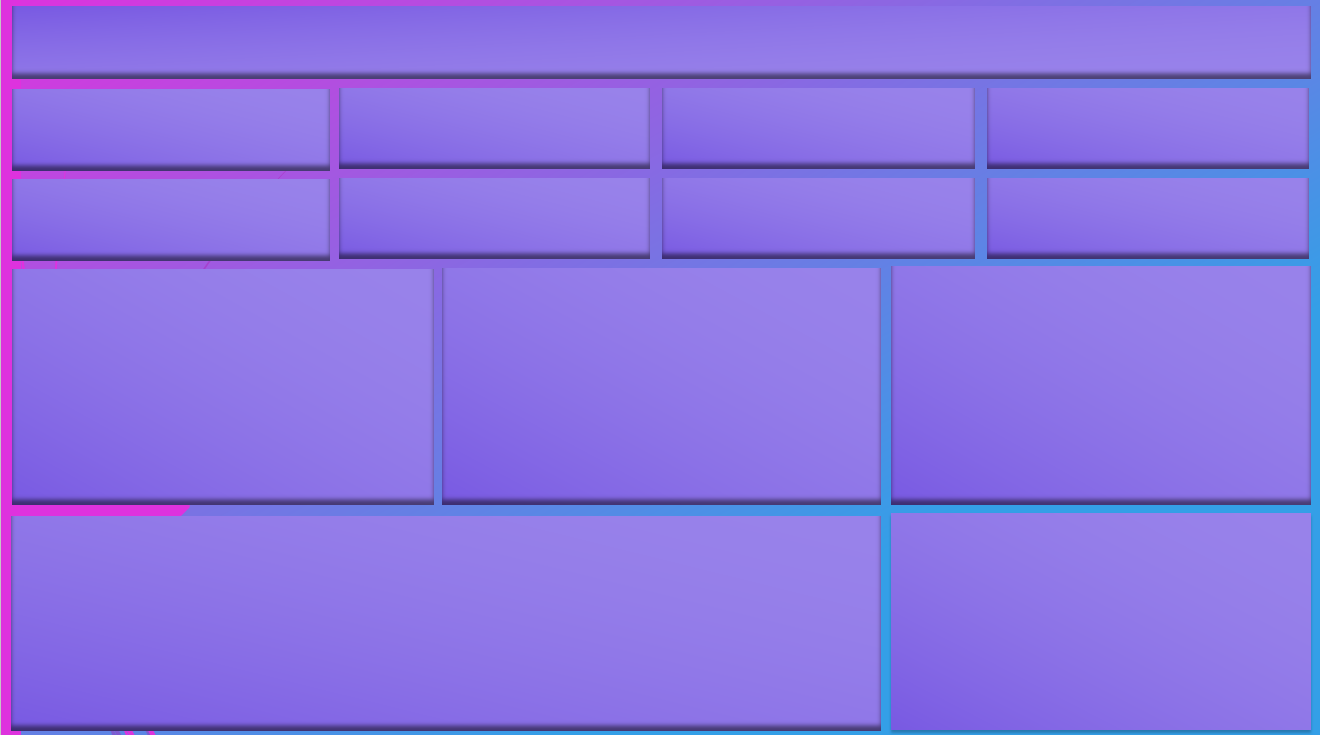

The page's visual inventory and layout, read from the dashboard file:
{"tool":"powerbi","page":{"name":"Page 1","canvas":[1280,720],"ordinal":0},"visuals":[{"type":"card","title":"Total Billing Amount","fields":{"Values":["Sum(Sheet1.Billing Amount)"]},"box":[17.8,179.6,292,69.9],"z":0},{"type":"card","title":"Total Health Insurance","fields":{"Values":["Sum(Sheet1.Health Insurance Amount)"]},"box":[649.9,179.6,289.3,69.9],"z":1},{"type":"card","title":"Total FeedBack","fields":{"Values":["Sum(Sheet1.Feedback)"]},"box":[965.2,179.6,296.1,69.9],"z":2},{"type":"card","title":"Total Patient Count","fields":{"Values":["Count(Sheet1.Patient_ID)"]},"box":[342.8,179.6,281.1,69.9],"z":3},{"type":"slicer","title":"Admit Month","fields":{"Values":["Sheet1.Admit_Date.Variation.Date Hierarchy.Month"]},"box":[19.2,87.7,290.7,65.8],"z":4},{"type":"slicer","title":"Doctor","fields":{"Values":["Sheet1.Doctor"]},"box":[334.5,86.4,297.5,67.2],"z":5},{"type":"slicer","title":"Diagnosis","fields":{"Values":["Sheet1.Diagnosis"]},"box":[648.5,87.7,292,67.2],"z":6},{"type":"slicer","title":"Discharge Month","fields":{"Values":["Sheet1.Discharge_Date.Variation.Date Hierarchy.Month"]},"box":[965.2,86.4,286.5,67.2],"z":7},{"type":"columnChart","title":"Bed Occupancy","fields":{"Category":["Sheet1.Bed_Occupancy"],"Y":["CountNonNull(Sheet1.Bed_Occupancy)"]},"box":[437,269,407,215],"z":9},{"type":"donutChart","fields":{"Category":["Sheet1.Test"],"Y":["CountNonNull(Sheet1.Patient_ID)"]},"box":[870.6,266,392,220],"z":10},{"type":"lineChart","fields":{"Y":["Sum(Sheet1.Billing Amount)","Sum(Sheet1.Health Insurance Amount)"],"Category":["Sheet1.Test"]},"box":[19.3,511.4,829.7,195.4],"z":11},{"type":"funnel","title":"Total Patient by Diagnosis","fields":{"Category":["Sheet1.Diagnosis"],"Y":["CountNonNull(Sheet1.Patient_ID)"]},"box":[20,271,394.9,212],"z":12},{"type":"barChart","fields":{"Y":["Sum(Sheet1.Billing Amount)"],"Category":["Sheet1.Test"]},"box":[870,505.9,391,202],"z":13},{"type":"shape","title":"FORTIS - HEALTHCARE DASHBOARD","box":[17.8,9.6,1243.5,57.6],"z":14}]}

Visuals, with their boxes in screenshot pixels (x1, y1, x2, y2), scaled from the page's 1280x720 canvas onto the 1320x735 screenshot:
"Total Billing Amount" card: (x1=18, y1=183, x2=319, y2=255)
"Total Health Insurance" card: (x1=670, y1=183, x2=969, y2=255)
"Total FeedBack" card: (x1=995, y1=183, x2=1301, y2=255)
"Total Patient Count" card: (x1=354, y1=183, x2=643, y2=255)
"Admit Month" slicer: (x1=20, y1=90, x2=320, y2=157)
"Doctor" slicer: (x1=345, y1=88, x2=652, y2=157)
"Diagnosis" slicer: (x1=669, y1=90, x2=970, y2=158)
"Discharge Month" slicer: (x1=995, y1=88, x2=1291, y2=157)
"Bed Occupancy" columnChart: (x1=451, y1=275, x2=870, y2=494)
donutChart - Sheet1.Test x CountNonNull(Sheet1.Patient_ID): (x1=898, y1=272, x2=1302, y2=496)
lineChart - Sum(Sheet1.Billing Amount) x Sum(Sheet1.Health Insurance Amount): (x1=20, y1=522, x2=876, y2=722)
"Total Patient by Diagnosis" funnel: (x1=21, y1=277, x2=428, y2=493)
barChart - Sum(Sheet1.Billing Amount) x Sheet1.Test: (x1=897, y1=516, x2=1300, y2=723)
"FORTIS - HEALTHCARE DASHBOARD" shape: (x1=18, y1=10, x2=1301, y2=69)
